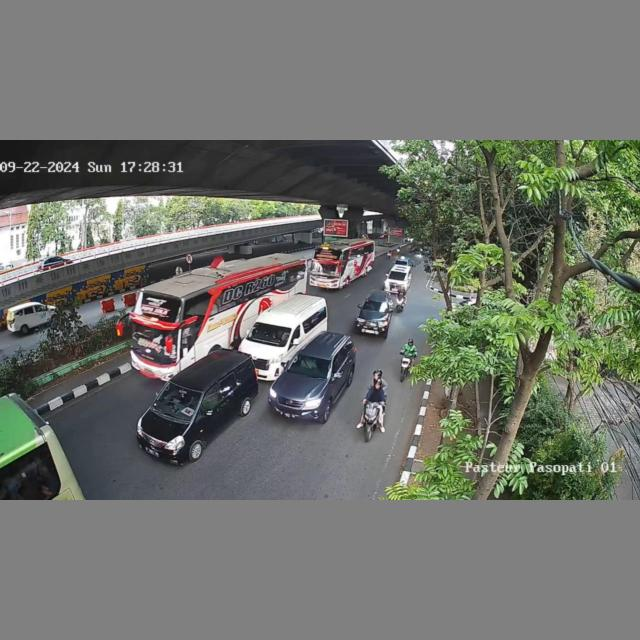windshield: (150, 383, 203, 416), (287, 354, 332, 378), (247, 322, 289, 347), (363, 300, 389, 313), (388, 271, 407, 281)
